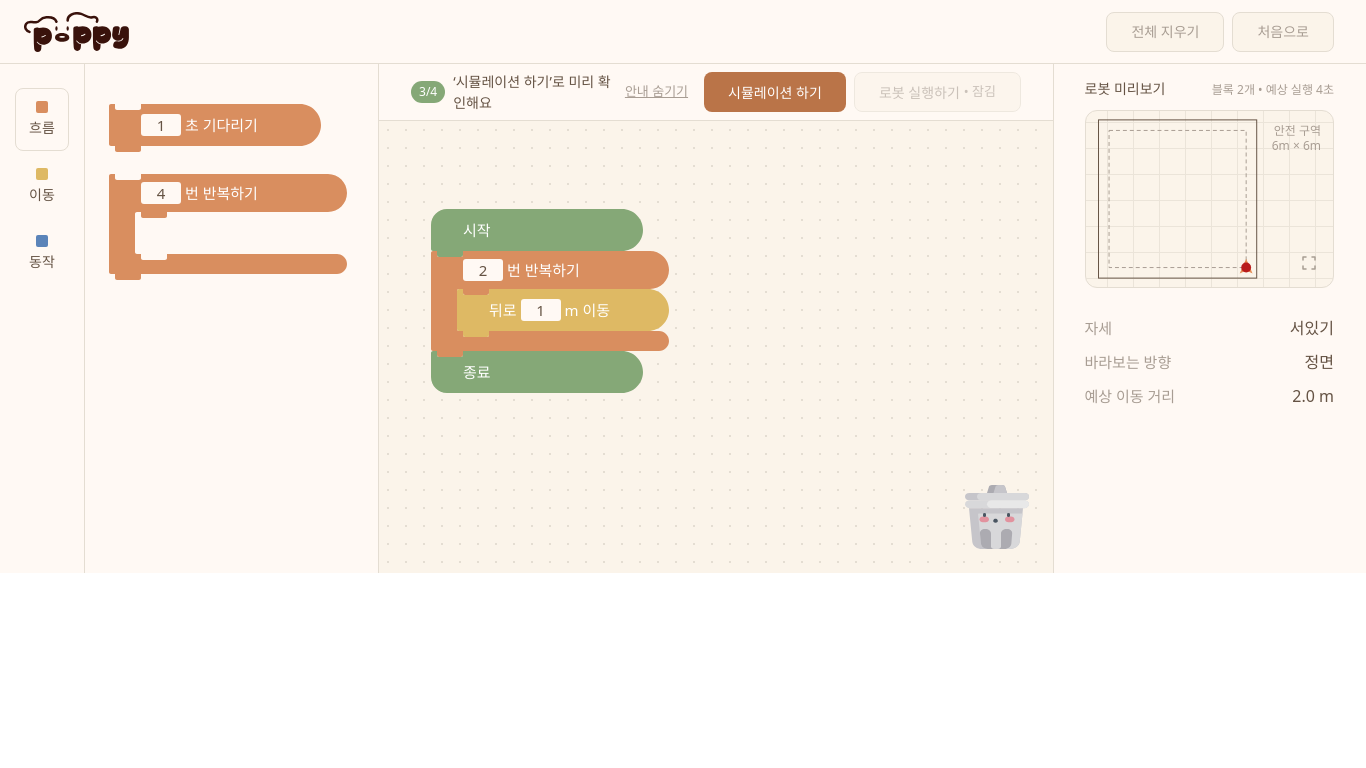
Test: 편집기 — 범위 밖 값 안내와 팔레트 기본값 › 팔레트 블록 입력칸에 기본값(0.5 m, 90°, 1초, 4번)이 보인다
The width and height of the screenshot is (1366, 768).
expect the text "1" is shown: met, box [141,114,181,136]
expect the text "4" is shown: met, box [141,182,181,204]
Click the button "이동": point(42, 186) [15,155,69,218]
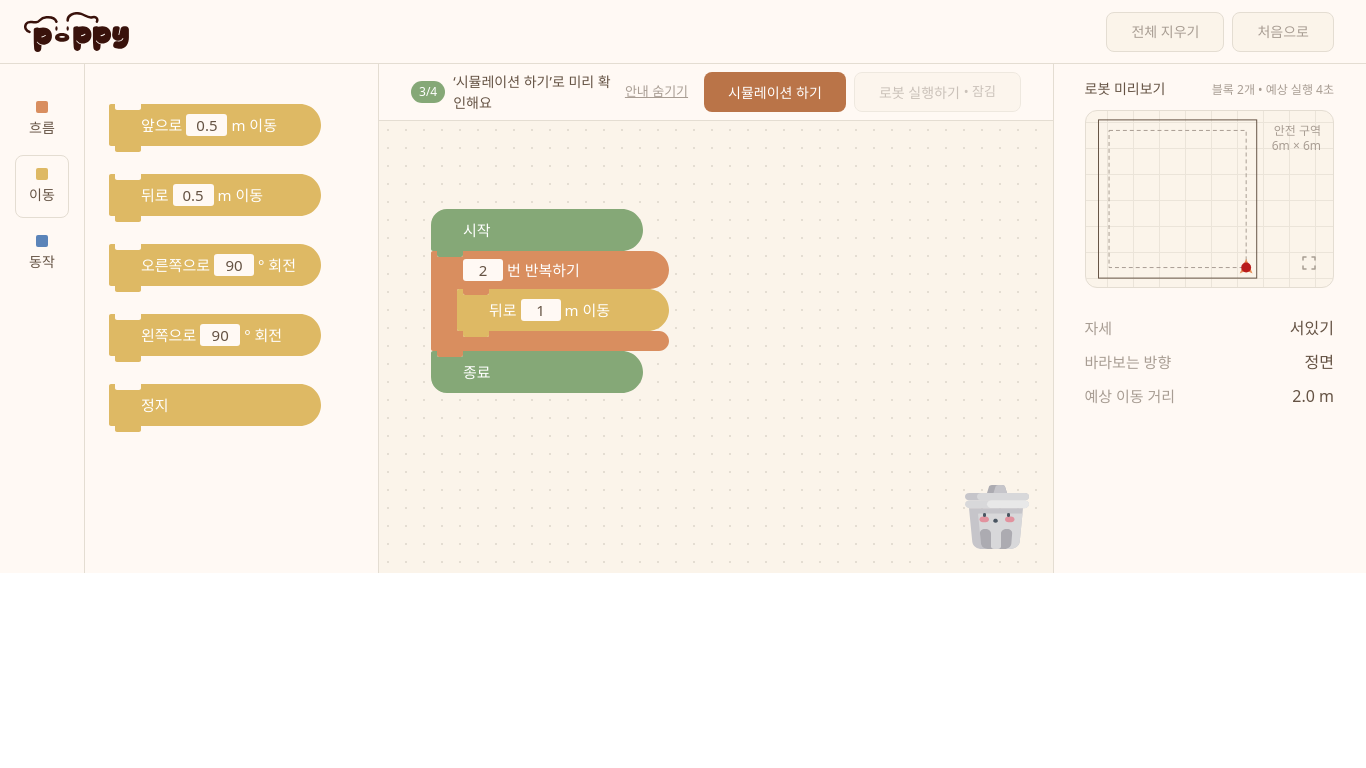
expect the text "0.5" is shown 2 times: met, box [186,114,227,136]; [173,184,214,206]
expect the text "90" is shown 2 times: met, box [214,254,254,276]; [200,324,240,346]
